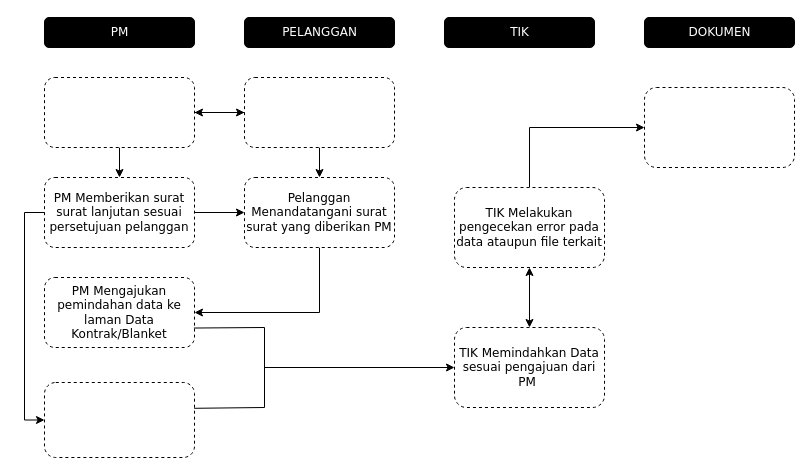
Some shapes in this 812 by 475 pixel diagram are drawn without their labels. The shapes that lost their labels are listed below. From the top down, each one's centre as x and y in pixels, then its label:
(119,112): PM Mengajukan Negosiasai Kepada Mitra Pelanggan
(319,112): Pelanggan Memberikan keputusan persetujuan proyek
(719,127): DATA NEGOSIASI
(119,420): PM Mengajukan pemindahan data ke laman rekapan proyek gagal
